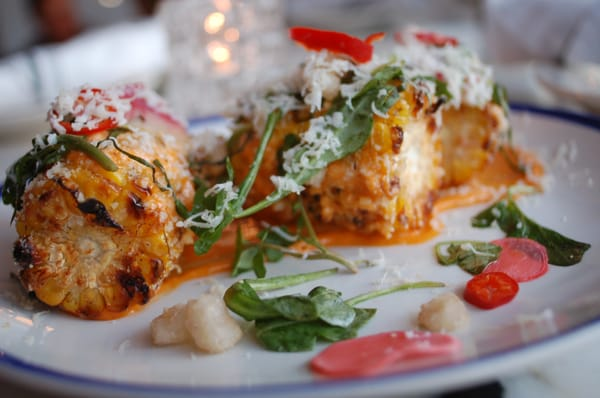soup: (1, 80, 197, 322)
